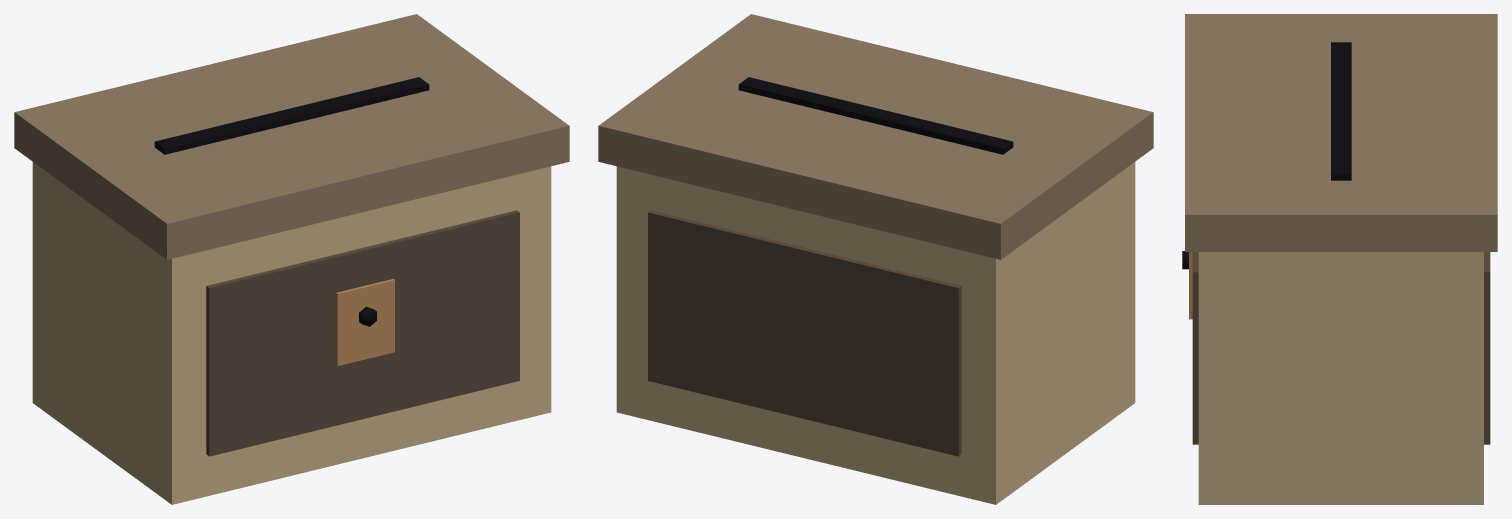
Rendered from reliquary_sealed.glb.
3 renders of one model, left to right at view 1: azimuth 30°, elevation 25°; view 2: azimuth 150°, elevation 25°; view 3: azimuth 270°, elevation 25°, orthographic. The views are drawn at different scales.
Visible parts, largest first — view 1: reliquary_sealed; view 2: reliquary_sealed; view 3: reliquary_sealed.
Part boxes in pixels (x1,y1,x2,y2): reliquary_sealed: [14, 14, 569, 504]; reliquary_sealed: [598, 14, 1153, 504]; reliquary_sealed: [1182, 14, 1497, 504].
Bounding box in the file's own units: 0.7 × 0.49 × 0.464.
